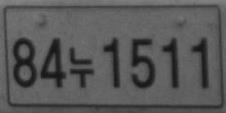1: (189, 37, 217, 89), (99, 37, 126, 88), (160, 37, 185, 88)
4: (40, 37, 66, 88)
5: (129, 38, 156, 88)
8: (11, 37, 37, 88)
누: (68, 46, 95, 88)
